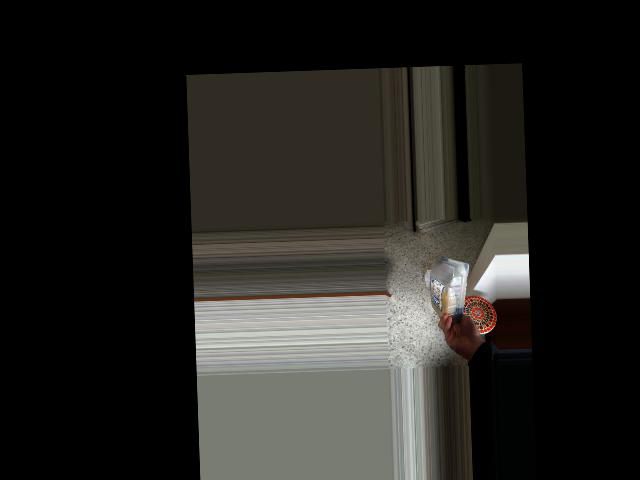cheese: (429, 255, 467, 322)
